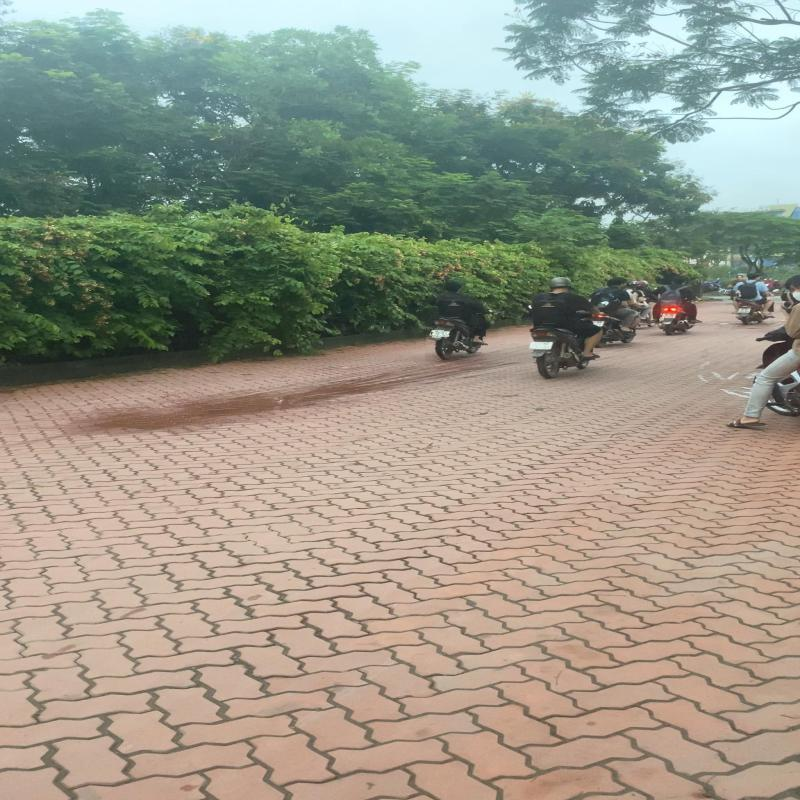licenseplate: (431, 332, 450, 338)
motorcyclist: (426, 278, 500, 360)
nohelmet: (444, 278, 464, 292)
